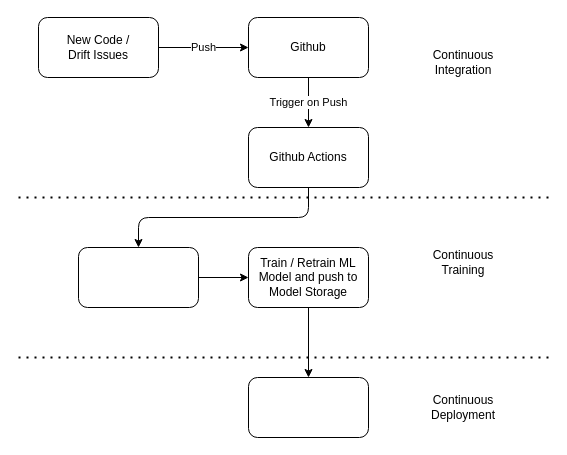
This 567x455 diagram has some shape labels left out. Here are the shapes that lost their labels. From the top down, the centre of each, then its label:
pixel 138 277: Setup CML
pixel 308 407: Deploy an API to cloud / onprem
